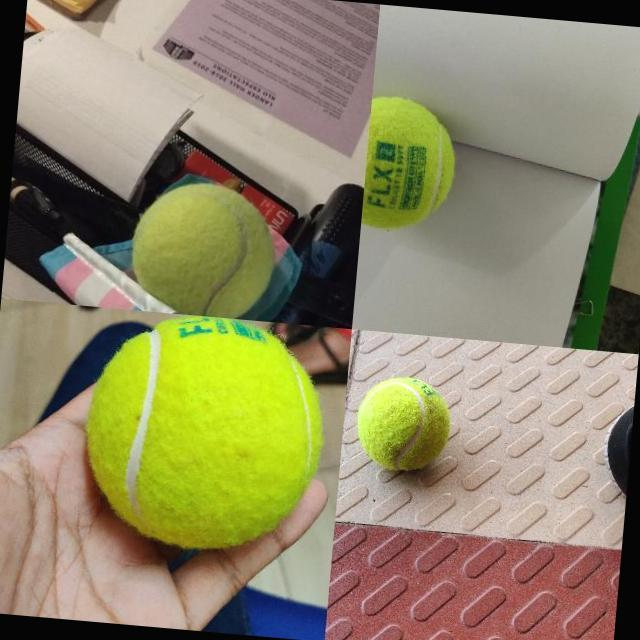tennis-ball: (78, 307, 330, 556), (127, 176, 281, 290), (360, 93, 460, 234), (352, 372, 453, 472)
